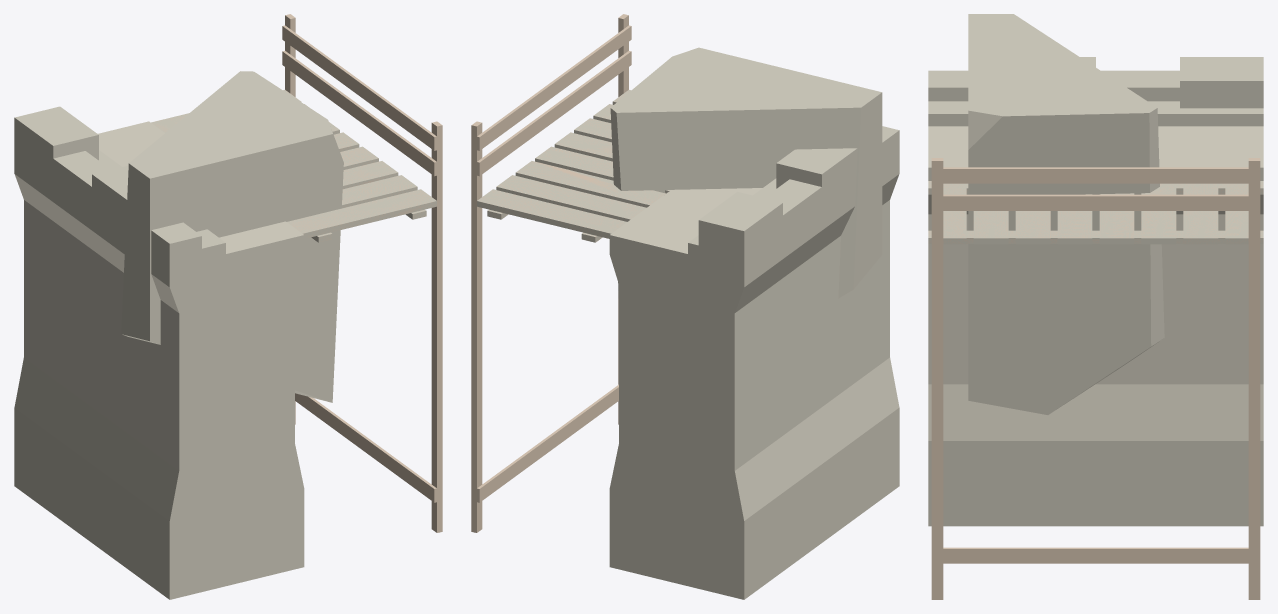
The model's file is wallNarrowWoodFence.fbx.
3 renders of one model, left to right at view 1: azimuth 30°, elevation 25°; view 2: azimuth 150°, elevation 25°; view 3: azimuth 270°, elevation 25°, orthographic. The views are drawn at different scales.
Parts seen in each view (by area): view 1: wallNarrowWoodFence_cell.001, wallNarrowWoodFence, wallNarrowWoodFence_cell.004, wallNarrowWoodFence_cell.007, wallNarrowWoodFence_cell.003, wallNarrowWoodFence_cell.005, wallNarrowWoodFence_cell.014, wallNarrowWoodFence_cell.002, wallNarrowWoodFence_cell, wallNarrowWoodFence_cell.010, wallNarrowWoodFence_cell.013, wallNarrowWoodFence_cell.008; view 2: wallNarrowWoodFence, wallNarrowWoodFence_cell.004, wallNarrowWoodFence_cell.001, wallNarrowWoodFence_cell.007, wallNarrowWoodFence_cell.002, wallNarrowWoodFence_cell.006, wallNarrowWoodFence_cell.003, wallNarrowWoodFence_cell.005, wallNarrowWoodFence_cell.014, wallNarrowWoodFence_cell.009; view 3: wallNarrowWoodFence, wallNarrowWoodFence_cell.004, wallNarrowWoodFence_cell.001, wallNarrowWoodFence_cell.006, wallNarrowWoodFence_cell.002, wallNarrowWoodFence_cell.007, wallNarrowWoodFence_cell.003, wallNarrowWoodFence_cell.010, wallNarrowWoodFence_cell.014, wallNarrowWoodFence_cell.013, wallNarrowWoodFence_cell.012, wallNarrowWoodFence_cell.005 (+1 smaller).
Boxes of the visible parts, <box> form: wallNarrowWoodFence_cell.001: <box>14,122,304,599</box>; wallNarrowWoodFence: <box>14,15,442,599</box>; wallNarrowWoodFence_cell.004: <box>121,71,343,402</box>; wallNarrowWoodFence_cell.007: <box>16,337,179,591</box>; wallNarrowWoodFence_cell.003: <box>339,144,422,220</box>; wallNarrowWoodFence_cell.005: <box>384,105,442,229</box>; wallNarrowWoodFence_cell.014: <box>295,393,441,532</box>; wallNarrowWoodFence_cell.002: <box>164,14,342,134</box>; wallNarrowWoodFence_cell: <box>151,231,297,357</box>; wallNarrowWoodFence_cell.010: <box>437,228,442,471</box>; wallNarrowWoodFence_cell.013: <box>340,93,407,156</box>; wallNarrowWoodFence_cell.008: <box>288,214,377,241</box>; wallNarrowWoodFence: <box>471,14,899,599</box>; wallNarrowWoodFence_cell.004: <box>610,47,882,298</box>; wallNarrowWoodFence_cell.001: <box>698,126,899,599</box>; wallNarrowWoodFence_cell.007: <box>745,276,899,595</box>; wallNarrowWoodFence_cell.002: <box>472,94,620,346</box>; wallNarrowWoodFence_cell.006: <box>610,392,745,599</box>; wallNarrowWoodFence_cell.003: <box>547,100,619,159</box>; wallNarrowWoodFence_cell.005: <box>585,14,631,99</box>; wallNarrowWoodFence_cell.014: <box>471,346,618,515</box>; wallNarrowWoodFence_cell.009: <box>598,190,665,237</box>; wallNarrowWoodFence: <box>928,57,1263,599</box>; wallNarrowWoodFence_cell.004: <box>968,14,1164,414</box>; wallNarrowWoodFence_cell.001: <box>928,70,1263,511</box>; wallNarrowWoodFence_cell.006: <box>1090,358,1263,526</box>; wallNarrowWoodFence_cell.002: <box>1135,158,1263,335</box>; wallNarrowWoodFence_cell.007: <box>928,374,1108,525</box>; wallNarrowWoodFence_cell.003: <box>943,211,1137,244</box>; wallNarrowWoodFence_cell.010: <box>931,263,943,532</box>; wallNarrowWoodFence_cell.014: <box>931,400,1260,599</box>; wallNarrowWoodFence_cell.013: <box>992,194,1135,210</box>; wallNarrowWoodFence_cell.012: <box>1018,169,1135,183</box>; wallNarrowWoodFence_cell.005: <box>928,158,1032,272</box>.
Bounding box in the file's own units: 1025 × 1449 × 1000.
